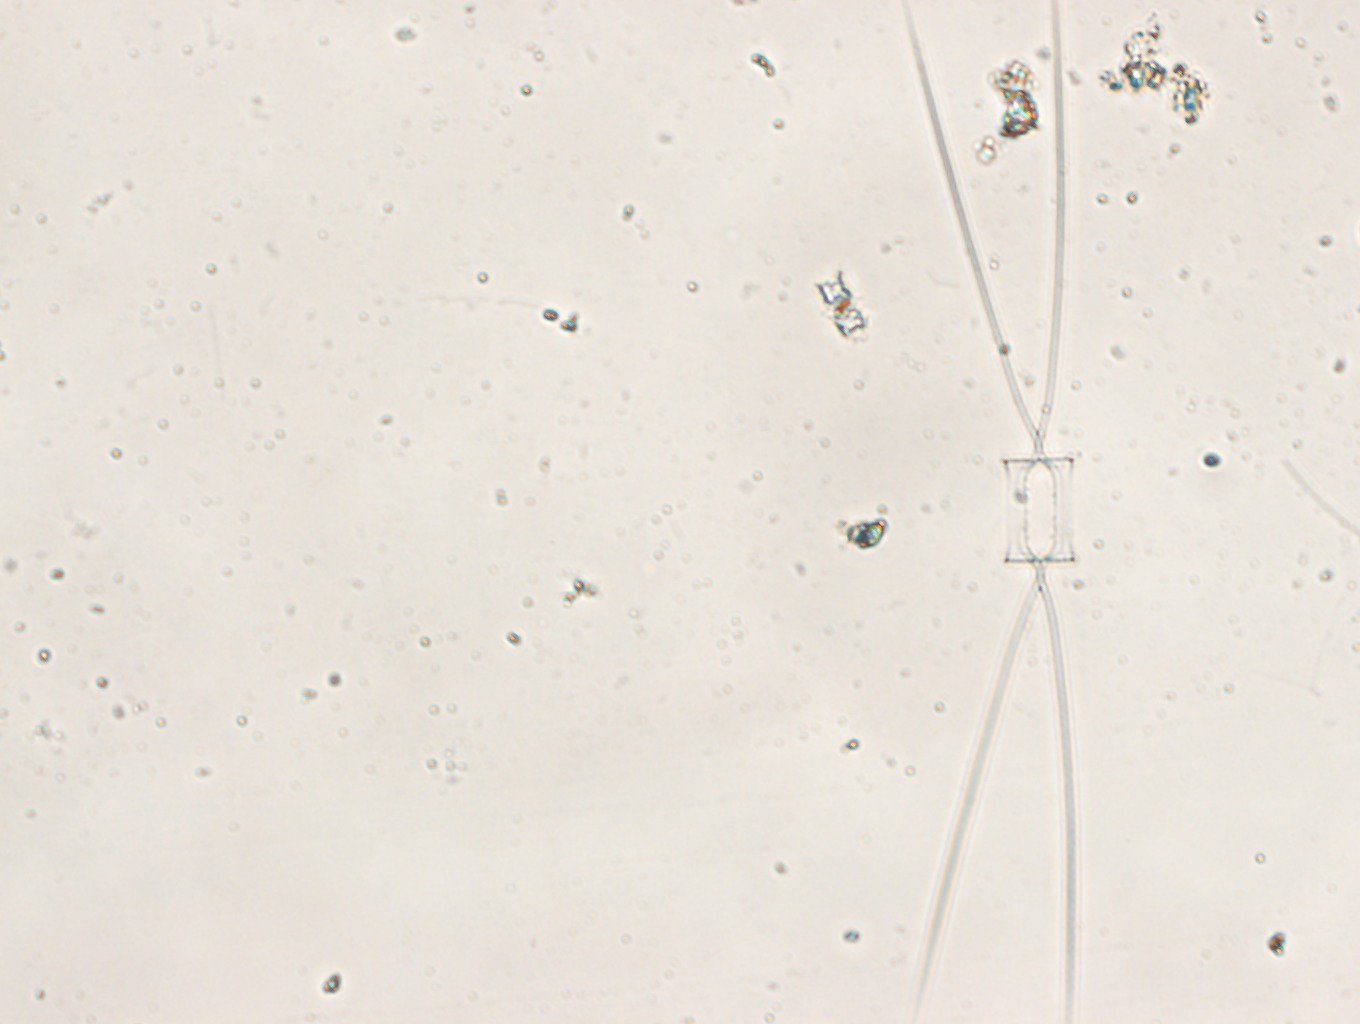chaetoceros: (900, 1, 1077, 1023)
